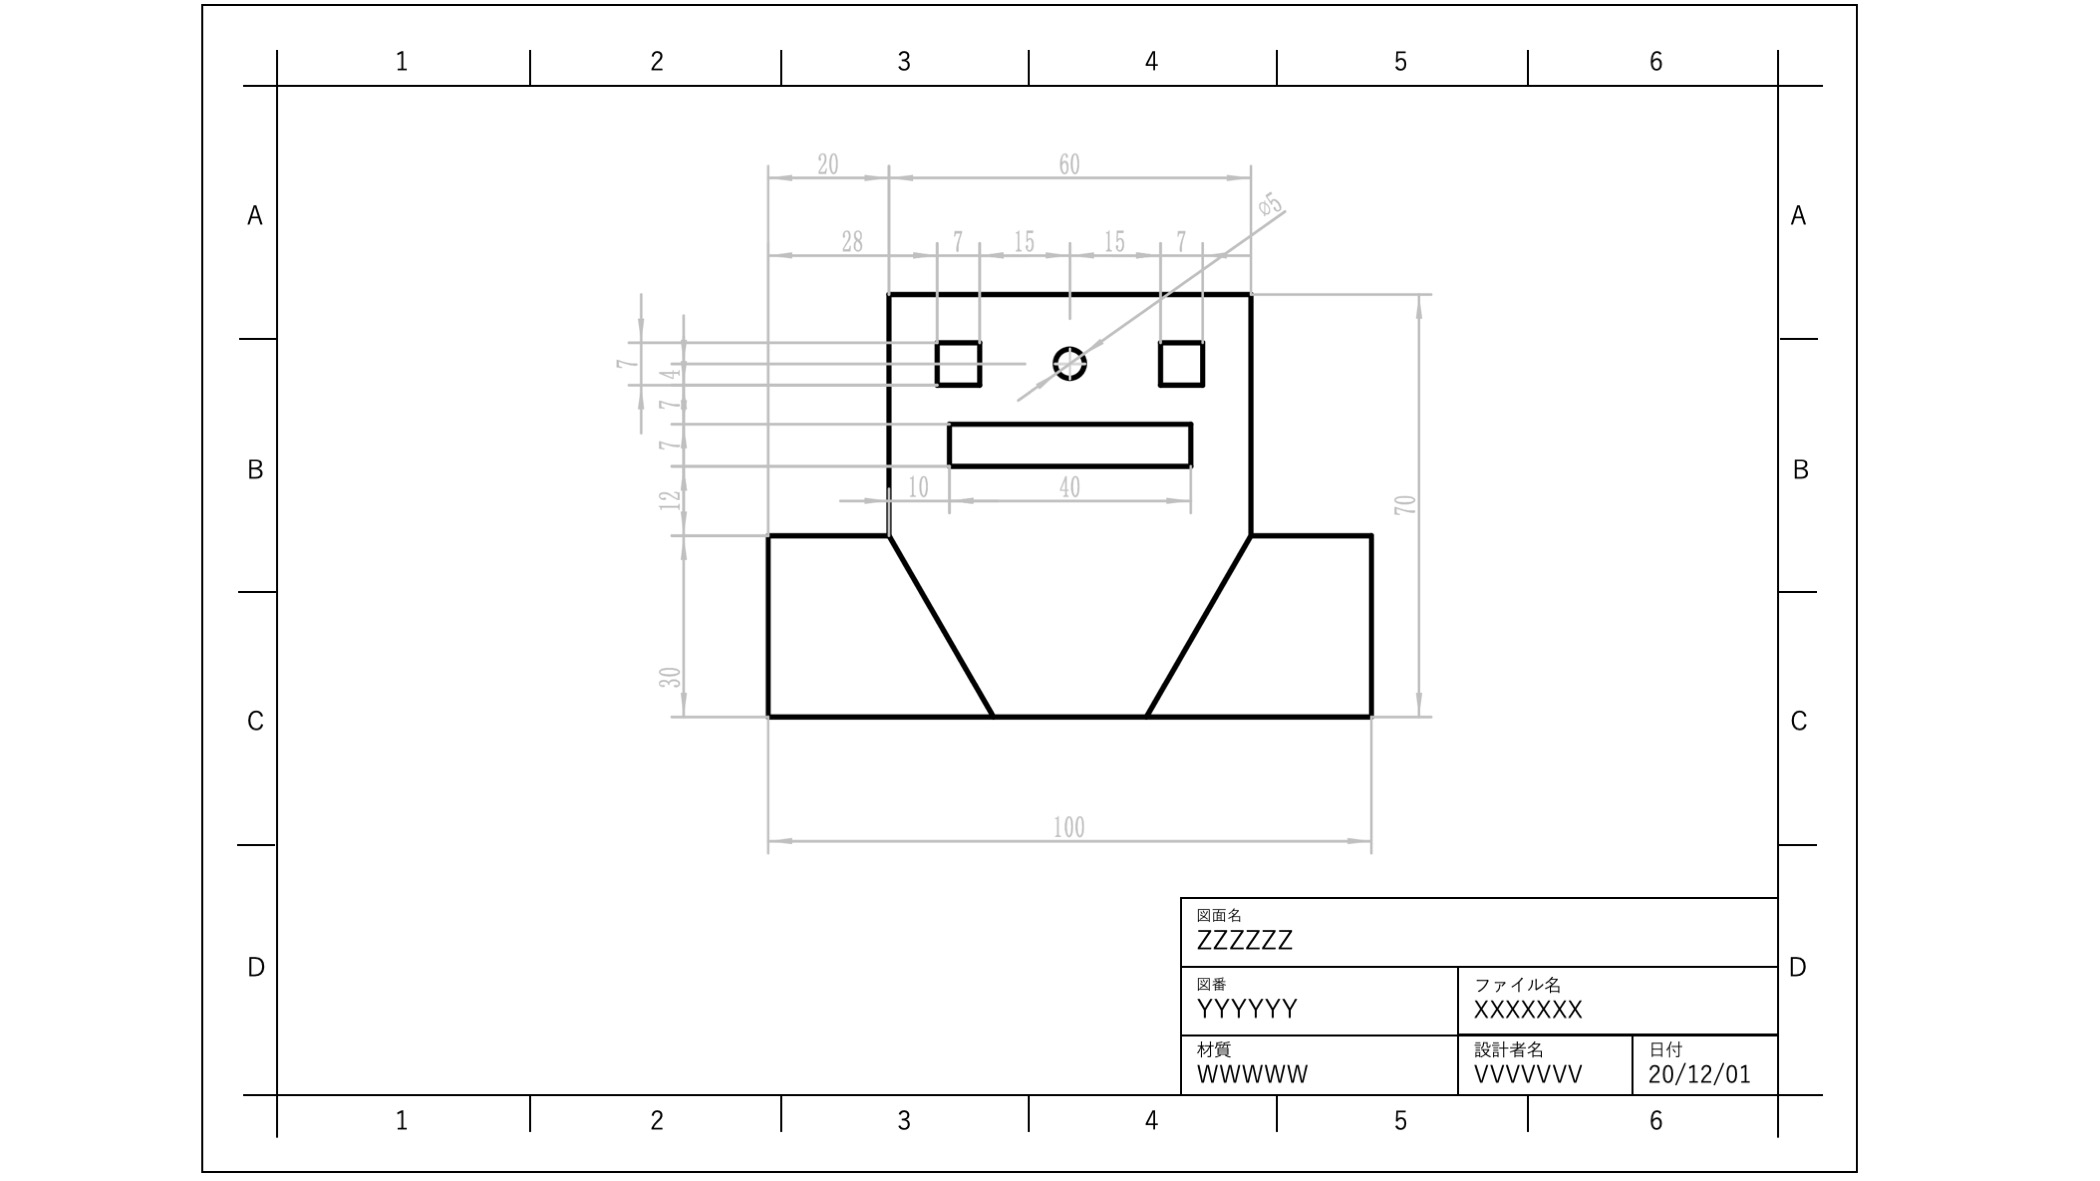circle: (1050, 343, 1087, 382)
rectangle: (943, 417, 1209, 477), (930, 324, 997, 405), (1150, 332, 1213, 394)
